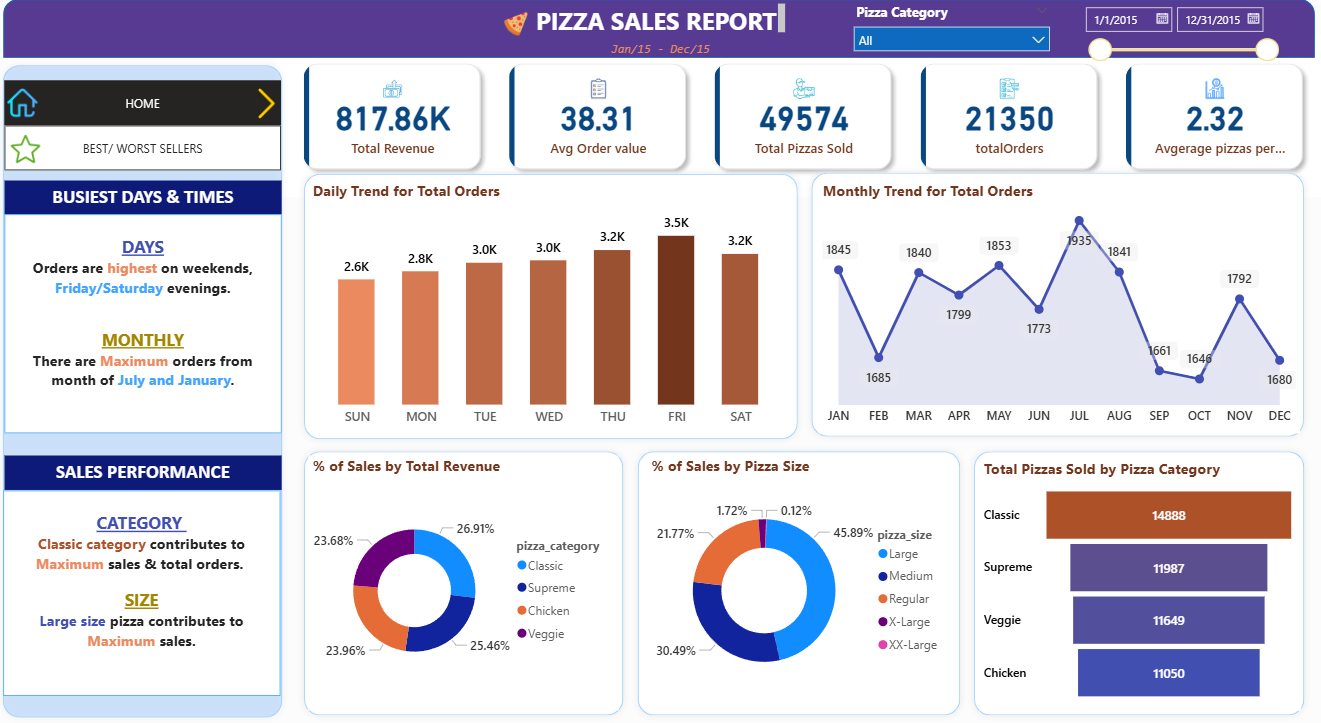

The page's visual inventory and layout, read from the dashboard file:
{"tool":"powerbi","page":{"name":"HOME","canvas":[1500,820],"ordinal":0},"visuals":[{"type":"cardVisual","fields":{"Data":["pizza_sales.Total Revenue","pizza_sales.Avg Order value","pizza_sales.Total Pizzas Sold","pizza_sales.totalOrders","pizza_sales.Avgerage pizzas per order"]},"box":[321.4,41.4,1178.6,180],"z":0},{"type":"shape","box":[10,67.1,327.1,742.9],"z":1000},{"type":"shape","box":[18.4,2,1461.2,65.3],"z":2000},{"type":"textbox","box":[605,1.7,290,43.3],"z":3000},{"type":"textbox","box":[683.3,41.7,133.3,35],"z":4000},{"type":"image","box":[566.2,15,45,27.5],"z":5000},{"type":"shape","box":[345.7,188.6,565.7,311.4],"z":6000},{"type":"columnChart","title":"Daily Trend for Total Orders","fields":{"Category":["pizza_sales.Order Day"],"Y":["pizza_sales.totalOrders"]},"box":[358.6,202.9,537.1,282.9],"z":7000},{"type":"shape","box":[911.4,187.1,564.3,310],"z":8000},{"type":"areaChart","title":"Monthly Trend for Total Orders","fields":{"Category":["pizza_sales.Order Month"],"Y":["pizza_sales.totalOrders"]},"box":[925.7,202.9,537.1,281.4],"z":9000},{"type":"shape","box":[345.7,497.1,371.4,310],"z":10000},{"type":"shape","box":[717.5,497.5,375,310],"z":11000},{"type":"shape","box":[1092.5,497.5,383.8,310],"z":12000},{"type":"donutChart","title":"% of Sales by Total Revenue","fields":{"Category":["pizza_sales.pizza_category"],"Y":["pizza_sales.Total Revenue"]},"box":[358.6,510,345.7,284.3],"z":13000},{"type":"donutChart","title":"% of Sales by Pizza Size","fields":{"Y":["pizza_sales.Total Revenue"],"Category":["pizza_sales.pizza_size"]},"box":[735.7,510,341.4,284.3],"z":14000},{"type":"funnel","title":"Total Pizzas Sold by Pizza Category","fields":{"Category":["pizza_sales.pizza_category"],"Y":["pizza_sales.Total Pizzas Sold"]},"box":[1106.2,512.5,357.5,281.2],"z":15000},{"type":"textbox","box":[20,510,308.6,38.6],"z":16000},{"type":"textbox","box":[18.6,548.6,308.6,228.6],"z":17000},{"type":"slicer","fields":{"Values":["pizza_sales.pizza_category"]},"box":[955.7,0,238.6,64.3],"z":18000},{"type":"slicer","fields":{"Values":["pizza_sales.order_date"]},"box":[1211.4,0,235.7,77.1],"z":19000},{"type":"textbox","box":[20,202.9,308.6,38.6],"z":20000},{"type":"textbox","box":[20,241.4,308.6,244.3],"z":21000},{"type":"pageNavigator","box":[20,91.4,308.6,50],"z":22000},{"type":"pageNavigator","box":[20,141.4,308.6,50],"z":23000},{"type":"image","box":[285.7,100,51.4,34.3],"z":24000},{"type":"image","box":[20,100,40,32.9],"z":24001},{"type":"image","box":[10,151.4,65.7,32.9],"z":24002}]}

Visuals, with their boxes in screenshot pixels (x1, y1, x2, y2), scaled from the page's 1500x820 canvas onto the 1321x723 screenshot:
cardVisual - pizza_sales.Total Revenue x pizza_sales.Avg Order value: x1=283 y1=37 x2=1320 y2=195
shape: x1=9 y1=59 x2=297 y2=714
shape: x1=16 y1=2 x2=1303 y2=59
textbox: x1=533 y1=1 x2=788 y2=40
textbox: x1=602 y1=37 x2=719 y2=68
image: x1=499 y1=13 x2=538 y2=37
shape: x1=304 y1=166 x2=803 y2=441
"Daily Trend for Total Orders" columnChart: x1=316 y1=179 x2=789 y2=428
shape: x1=803 y1=165 x2=1300 y2=438
"Monthly Trend for Total Orders" areaChart: x1=815 y1=179 x2=1288 y2=427
shape: x1=304 y1=438 x2=632 y2=712
shape: x1=632 y1=439 x2=962 y2=712
shape: x1=962 y1=439 x2=1300 y2=712
"% of Sales by Total Revenue" donutChart: x1=316 y1=450 x2=620 y2=700
"% of Sales by Pizza Size" donutChart: x1=648 y1=450 x2=949 y2=700
"Total Pizzas Sold by Pizza Category" funnel: x1=974 y1=452 x2=1289 y2=700
textbox: x1=18 y1=450 x2=289 y2=484
textbox: x1=16 y1=484 x2=288 y2=685
slicer - pizza_sales.pizza_category: x1=842 y1=0 x2=1052 y2=57
slicer - pizza_sales.order_date: x1=1067 y1=0 x2=1274 y2=68
textbox: x1=18 y1=179 x2=289 y2=213
textbox: x1=18 y1=213 x2=289 y2=428
pageNavigator: x1=18 y1=81 x2=289 y2=125
pageNavigator: x1=18 y1=125 x2=289 y2=169
image: x1=252 y1=88 x2=297 y2=118
image: x1=18 y1=88 x2=53 y2=117
image: x1=9 y1=133 x2=67 y2=162
